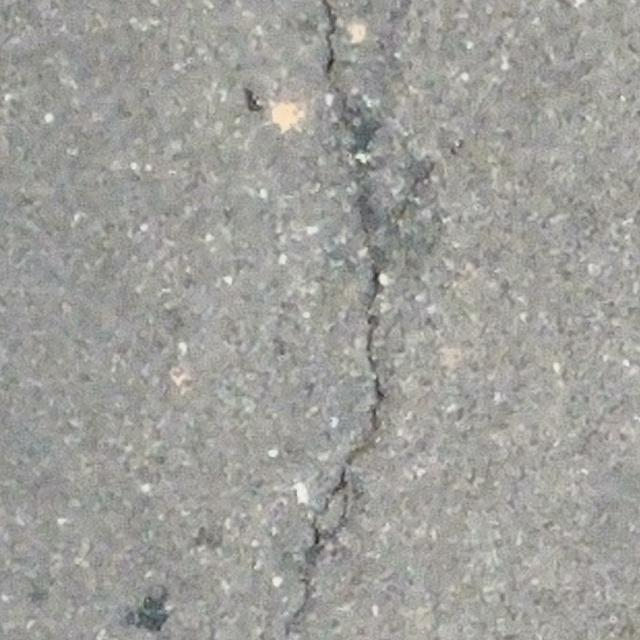LongitudinalCrack: (286, 1, 384, 636)
